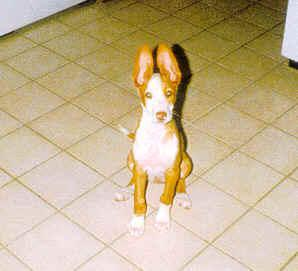Ibizan_hound: (110, 41, 193, 236)
